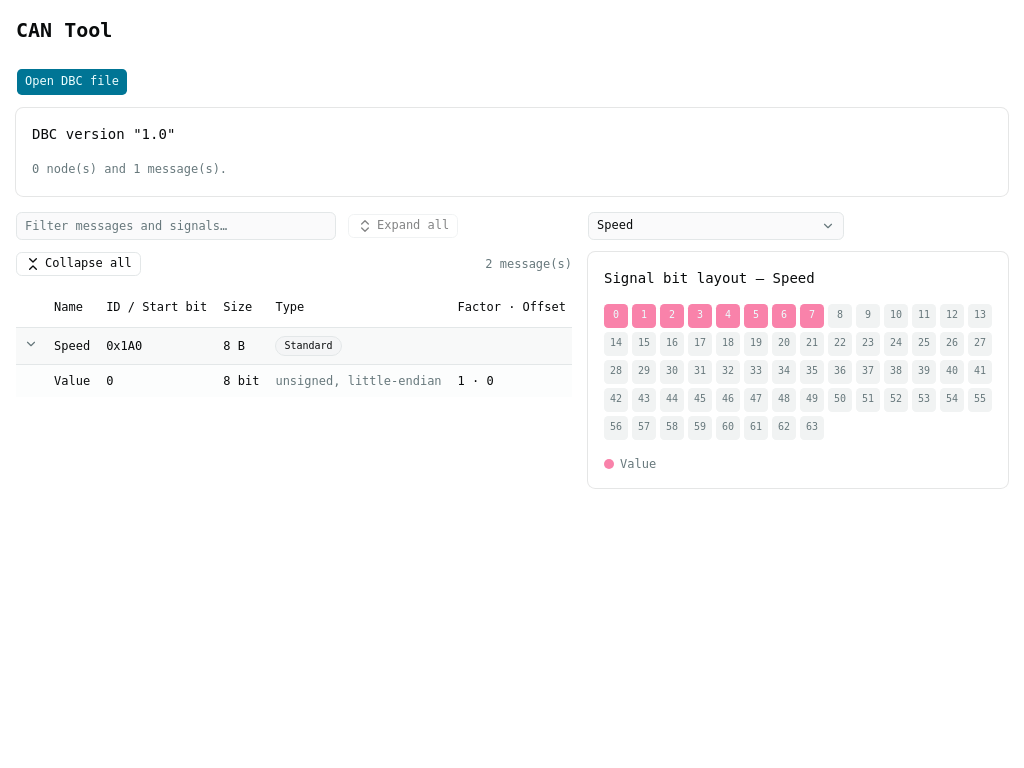
Test: the DBC route › reports a failed parse without discarding the loaded file
The image size is (1024, 768).
Click the button "Open DBC file". click: {"x": 72, "y": 82}
box: [16,68,128,96]
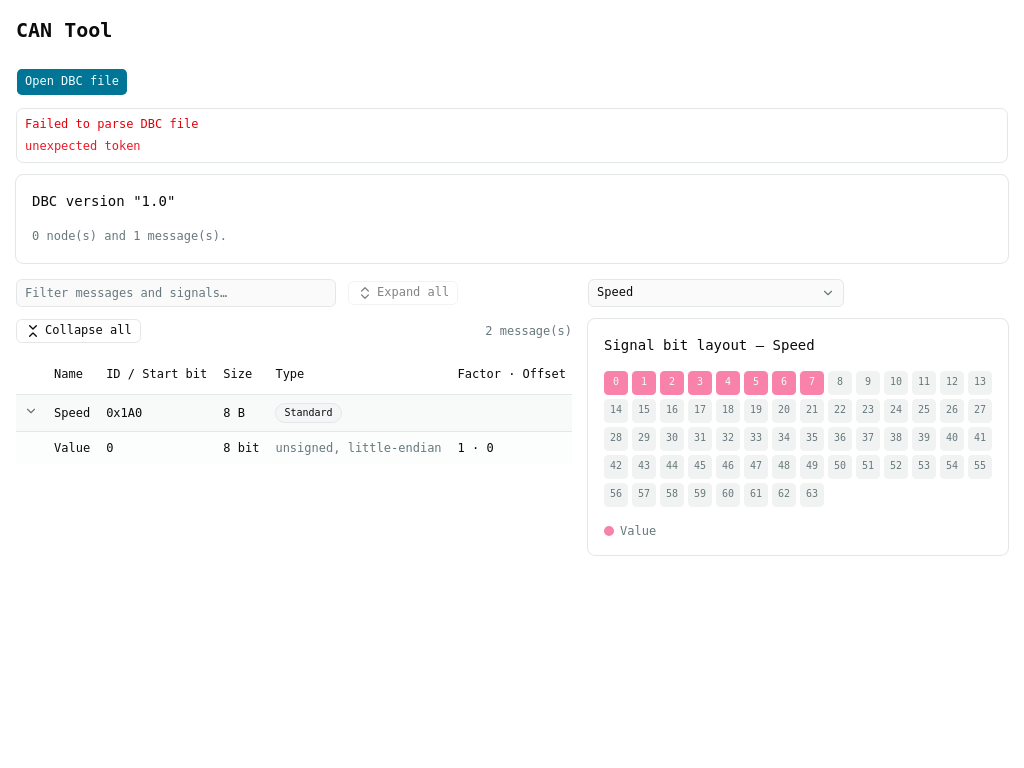
Expected: the text "Speed" is shown, [46,395,98,432]
Result: the text "Failed to parse DBC file" is shown at [25,117,198,131]
Result: the text "unexpected token" is shown at [25,138,141,152]
